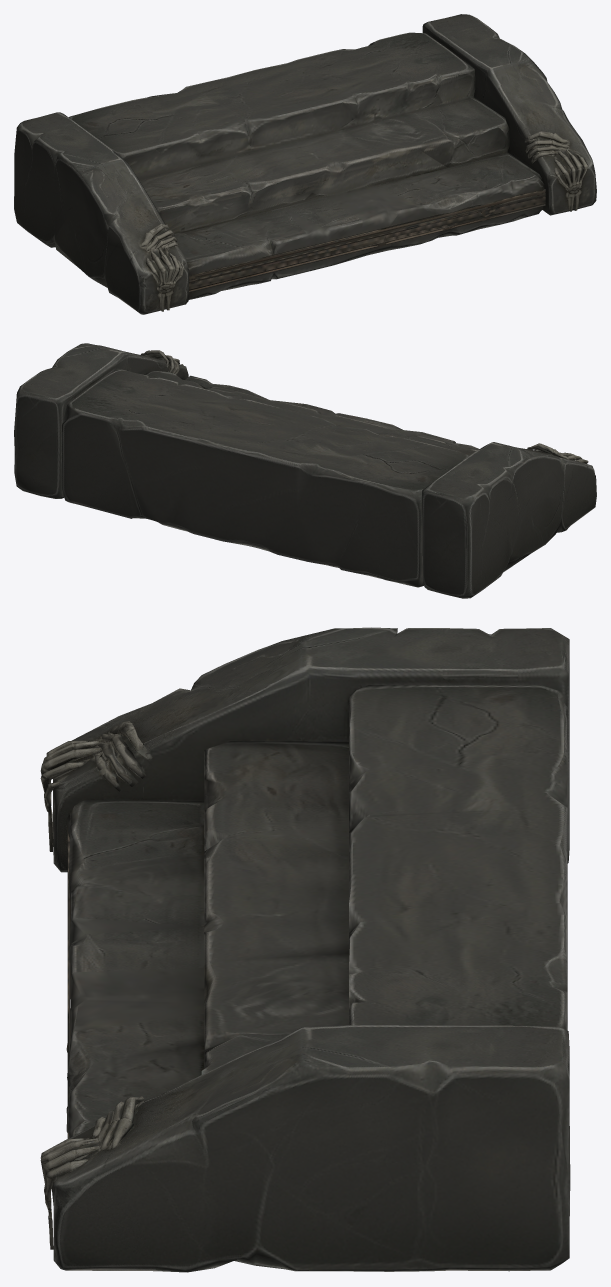
File: gate-threshold.glb
3 renders of one model, top to bottom at view 1: azimuth 30°, elevation 25°; view 2: azimuth 150°, elevation 25°; view 3: azimuth 270°, elevation 25°, orthographic. The views are drawn at different scales.
Bounding box in the file's own units: 0.9575 × 0.2041 × 0.48.
1 material, 1 textured.
